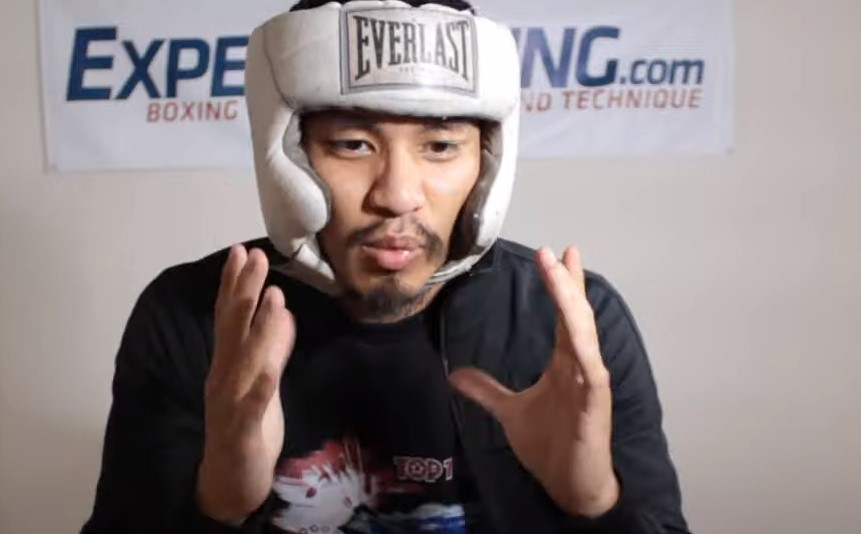face_no_mask: (260, 33, 497, 318)
